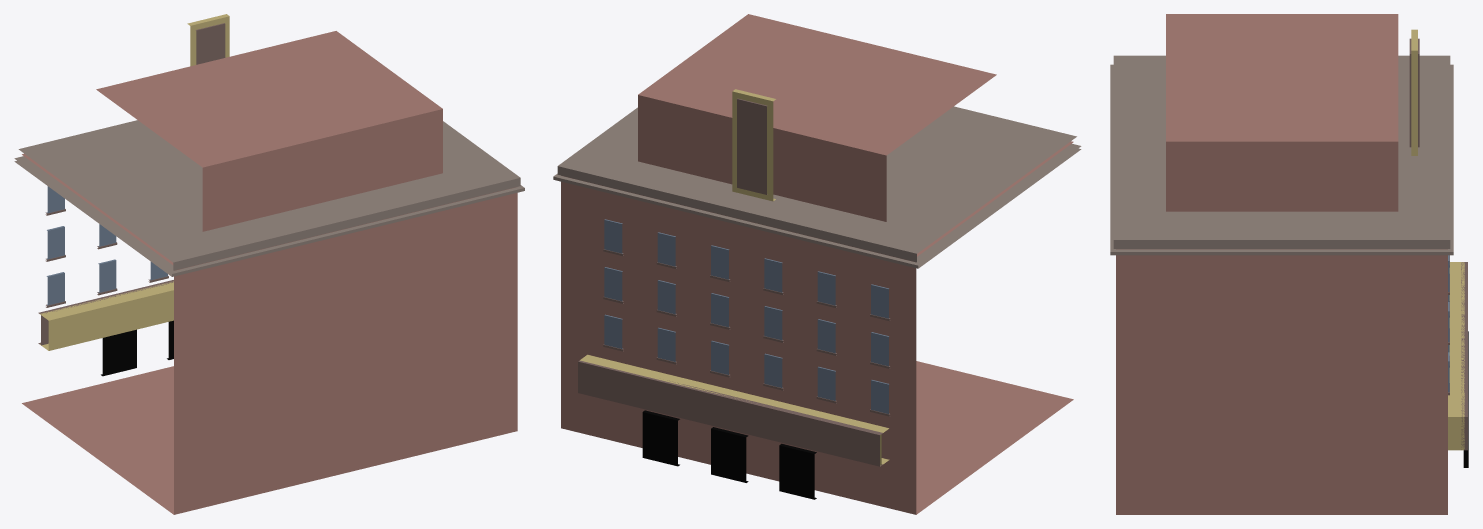
Rendered from theater_cinema.glb.
3 views of the same model, side by side, from view 1: azimuth 30°, elevation 25°; view 2: azimuth 150°, elevation 25°; view 3: azimuth 270°, elevation 25° (orthographic). The views are drawn at different scales.
Parts seen in each view (by area): view 1: theater_cinema; view 2: theater_cinema; view 3: theater_cinema.
Part boxes in pixels (bbox=[...]): theater_cinema: bbox=[14, 14, 524, 514]; theater_cinema: bbox=[553, 14, 1081, 514]; theater_cinema: bbox=[1110, 14, 1468, 514].
Size of the model in its own units: 26.7 by 25.5 by 21.6.
